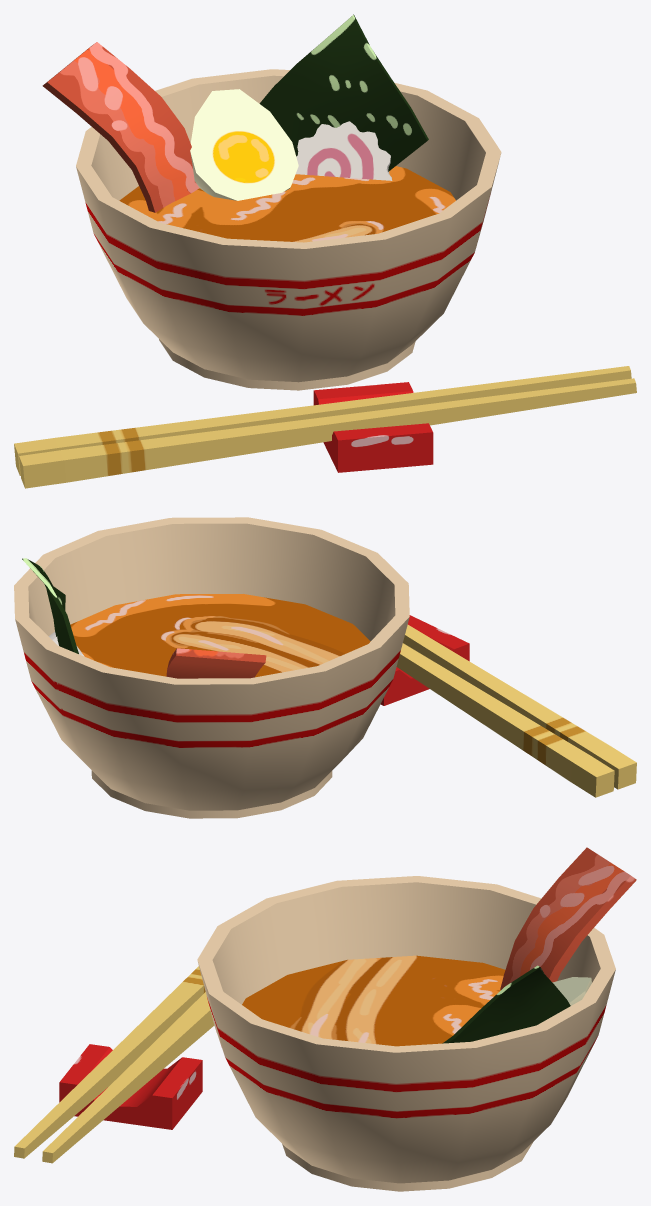
Rendered from bowl_of_ramen-2.glb.
3 views of the same model, one above another, from view 1: azimuth 30°, elevation 25°; view 2: azimuth 150°, elevation 25°; view 3: azimuth 270°, elevation 25° (orthographic). The views are drawn at different scales.
Parts seen in each view (by area): view 1: mesh_Material_0; view 2: mesh_Material_0; view 3: mesh_Material_0.
Part boxes in pixels (x1,y1,x2,y2): mesh_Material_0: [14, 14, 636, 488]; mesh_Material_0: [14, 517, 636, 818]; mesh_Material_0: [14, 847, 636, 1191].
Bounding box in the file's own units: 0.3882 × 0.1634 × 0.3928.
1 material, 1 textured.
